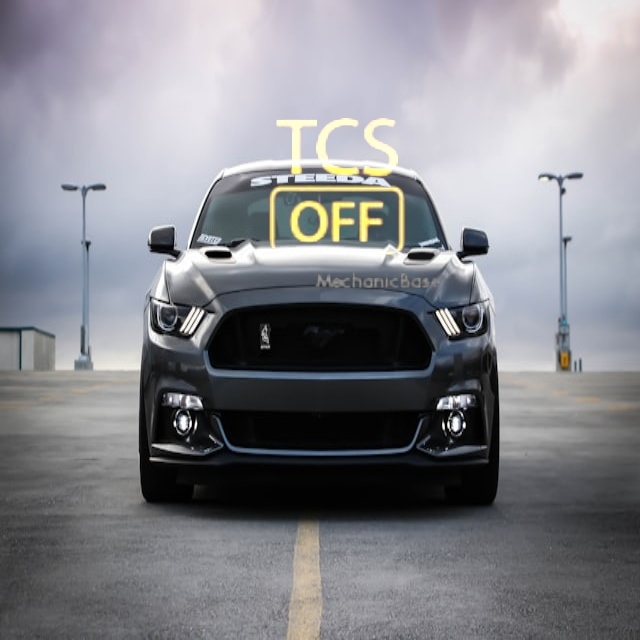symbol: (230, 80, 449, 299)
